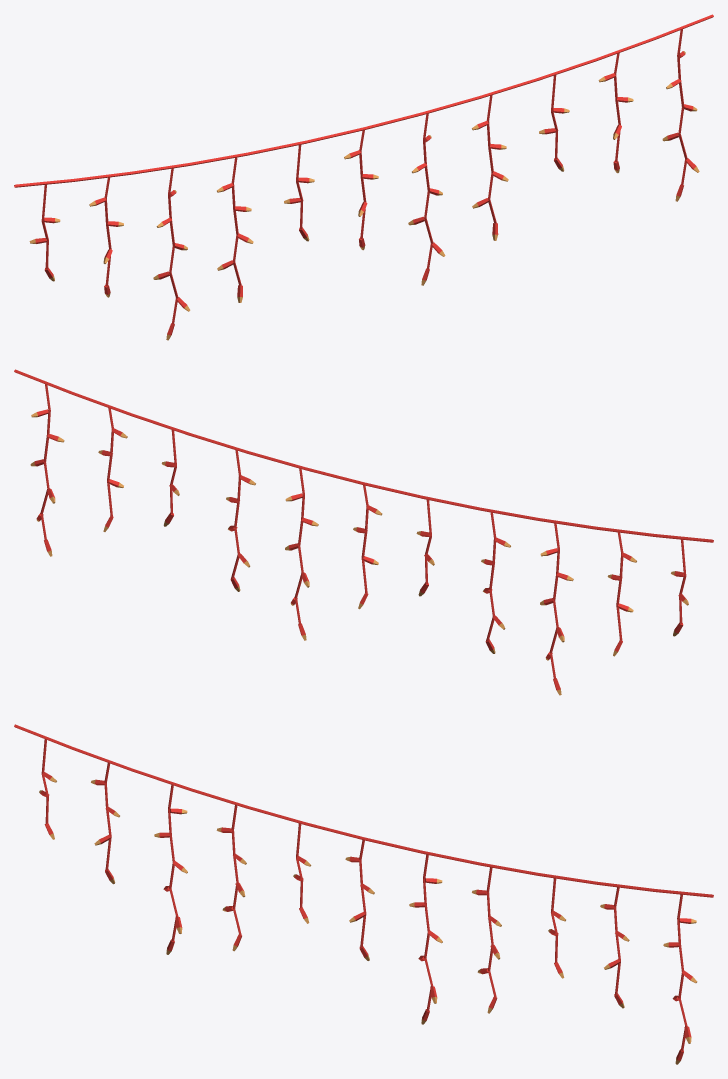
File: SM_Light_String_White_Small_3m_Christmas.fbx
3 views of the same model, one above another, from view 1: azimuth 30°, elevation 25°; view 2: azimuth 150°, elevation 25°; view 3: azimuth 330°, elevation 25° (orthographic).
Parts seen in each view (by area): view 1: light-string-white-small-3m-christmas; view 2: light-string-white-small-3m-christmas; view 3: light-string-white-small-3m-christmas.
Boxes of the visible parts, x1,y1,x2,y2 form: light-string-white-small-3m-christmas: [14, 14, 713, 340]; light-string-white-small-3m-christmas: [14, 369, 713, 695]; light-string-white-small-3m-christmas: [14, 724, 713, 1064].
Size of the model in its own units: 3 by 0.8236 by 0.0886.
